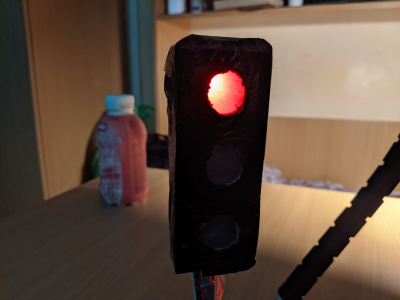trafficlight_red: (176, 40, 258, 272)
